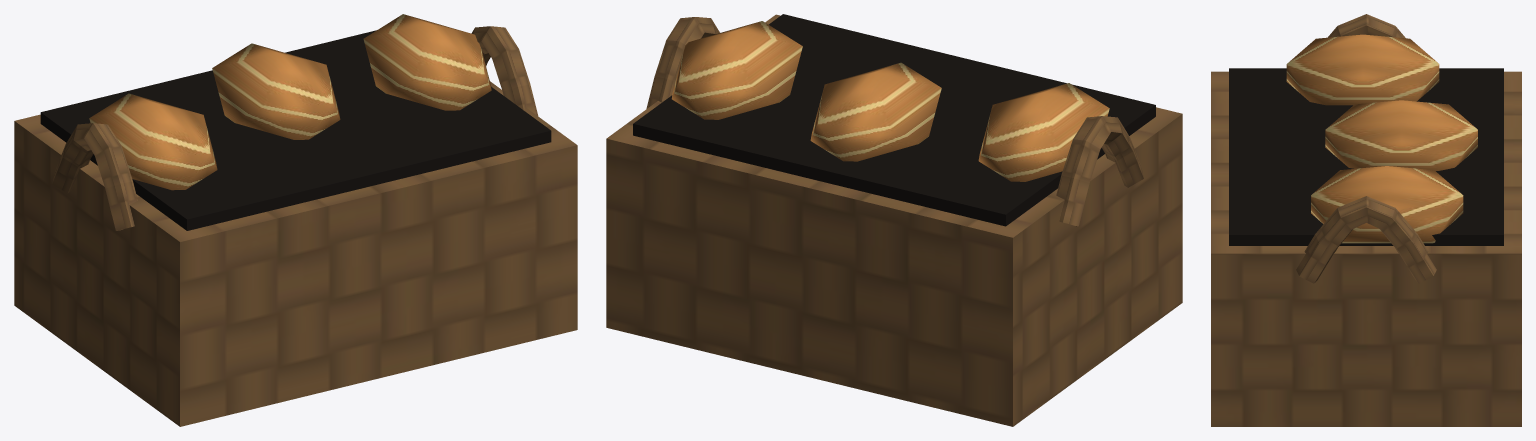
Rendered from prop_broodmand_red.glb.
3 renders of one model, left to right at view 1: azimuth 30°, elevation 25°; view 2: azimuth 150°, elevation 25°; view 3: azimuth 270°, elevation 25°, orthographic. The views are drawn at different scales.
Visible parts, largest first — view 1: prop_broodmand_red; view 2: prop_broodmand_red; view 3: prop_broodmand_red.
Boxes of the visible parts, x1=… form: prop_broodmand_red: x1=14, y1=14, x2=577, y2=426; prop_broodmand_red: x1=606, y1=14, x2=1182, y2=426; prop_broodmand_red: x1=1211, y1=14, x2=1521, y2=426.
Size of the model in its own units: 0.3817 by 0.2175 by 0.26.
Materials: 1 (1 with a texture image).
